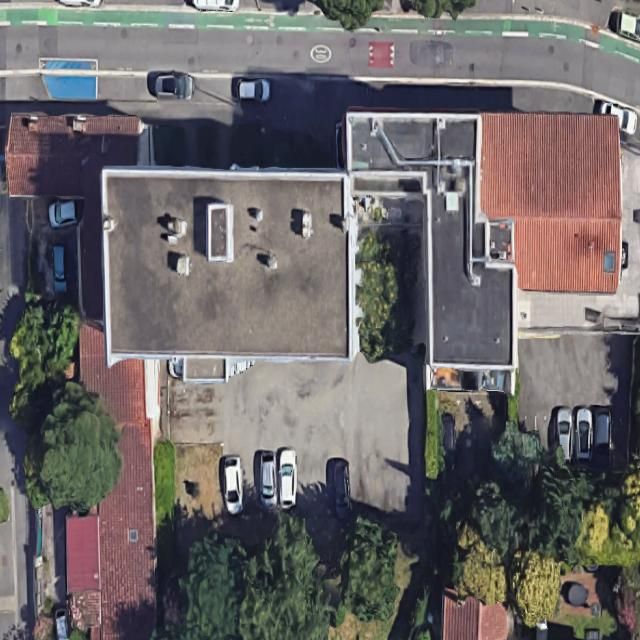immeuble: (98, 104, 624, 389), (98, 167, 358, 365), (479, 113, 623, 294), (3, 114, 155, 203)
maison: (62, 322, 156, 640)
